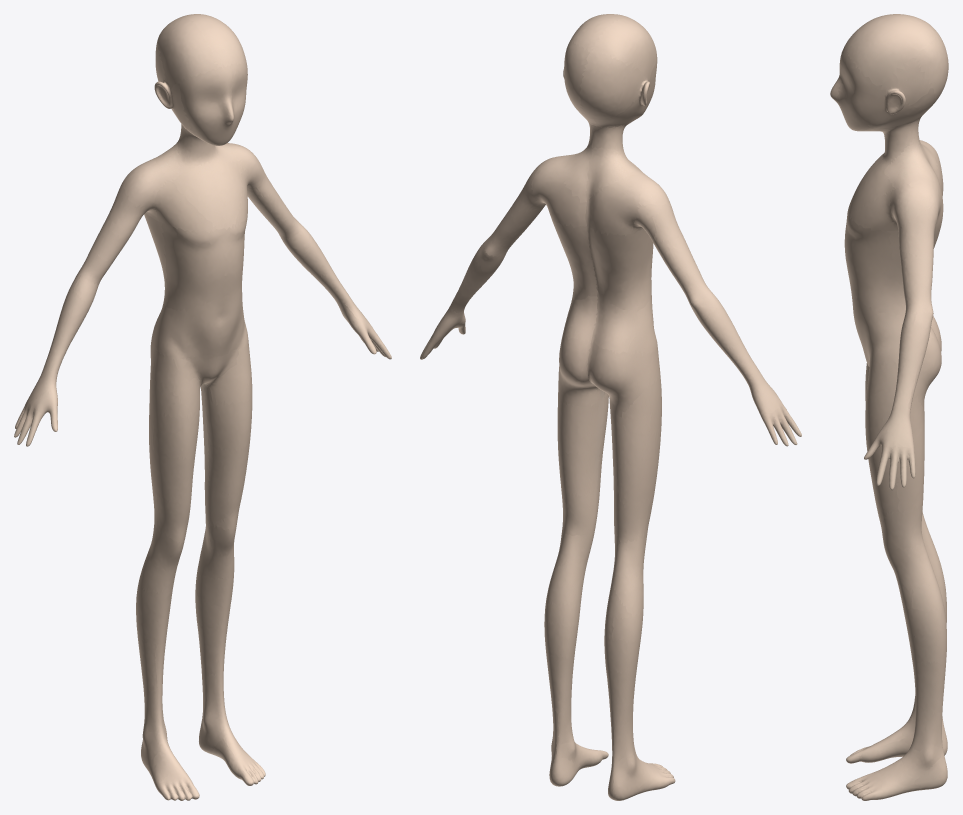
Rendered from char_namja_slim_v14.glb.
3 renders of one model, left to right at view 1: azimuth 30°, elevation 25°; view 2: azimuth 150°, elevation 25°; view 3: azimuth 270°, elevation 25°, orthographic.
Bounding box in the file's own units: 0.971 × 1.9 × 0.2682.
1 material, 1 textured.
